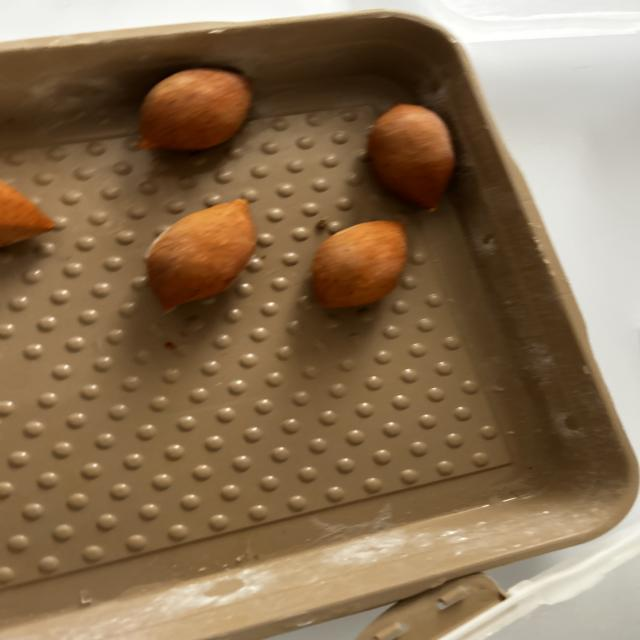kobi: (144, 198, 257, 313), (370, 101, 460, 217), (136, 67, 252, 151), (309, 219, 408, 308)
